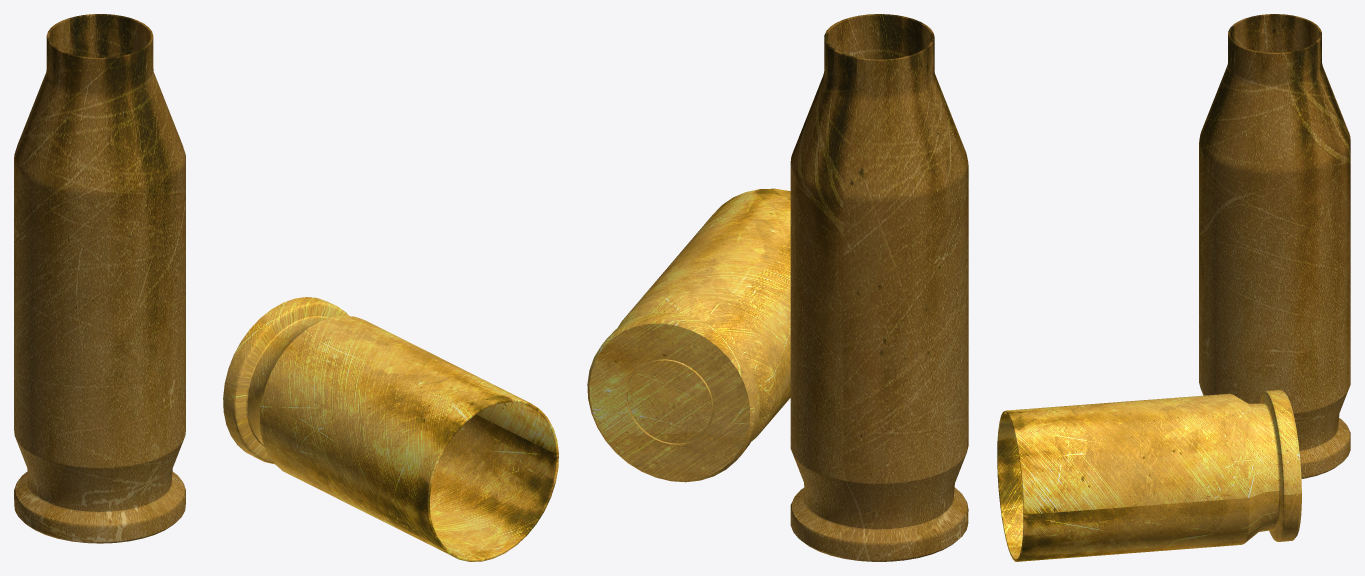
File: Bullet_Case.fbx
The picture shows the model from 3 angles, left to right: view 1: azimuth 30°, elevation 25°; view 2: azimuth 150°, elevation 25°; view 3: azimuth 270°, elevation 25°; orthographic projection. The views are drawn at different scales.
Parts seen in each view (by area): view 1: pCylinder3, pCylinder4; view 2: pCylinder3, pCylinder4; view 3: pCylinder3, pCylinder4.
Boxes of the visible parts, x1,y1,x2,y2 form: pCylinder3: (14,14,185,543); pCylinder4: (223,297,558,561); pCylinder3: (790,14,968,561); pCylinder4: (587,188,790,482); pCylinder3: (1199,14,1350,478); pCylinder4: (997,390,1301,561).
Size of the model in its own units: 5.44 by 6.28 by 4.83.
